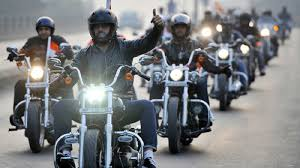com_capacete: (82, 4, 121, 46), (29, 12, 58, 41), (167, 11, 194, 41)
